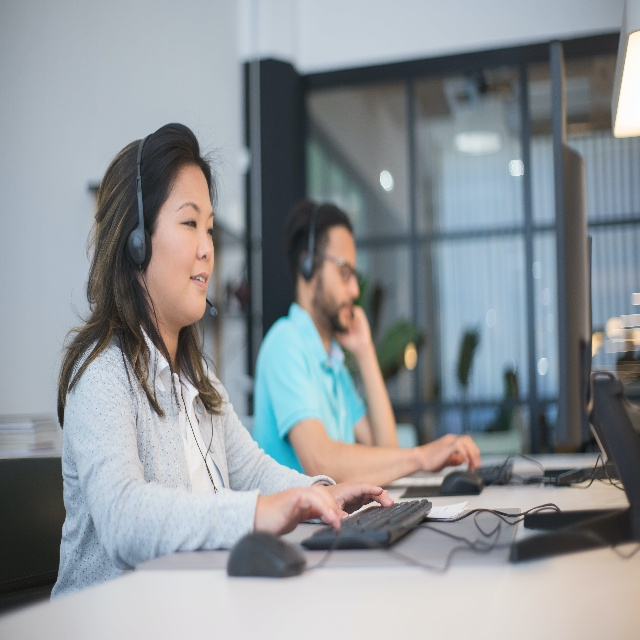Gafas: (335, 259, 359, 284)
Sin_guantes: (259, 484, 341, 536), (421, 429, 484, 476), (330, 481, 397, 514), (337, 306, 373, 351)
